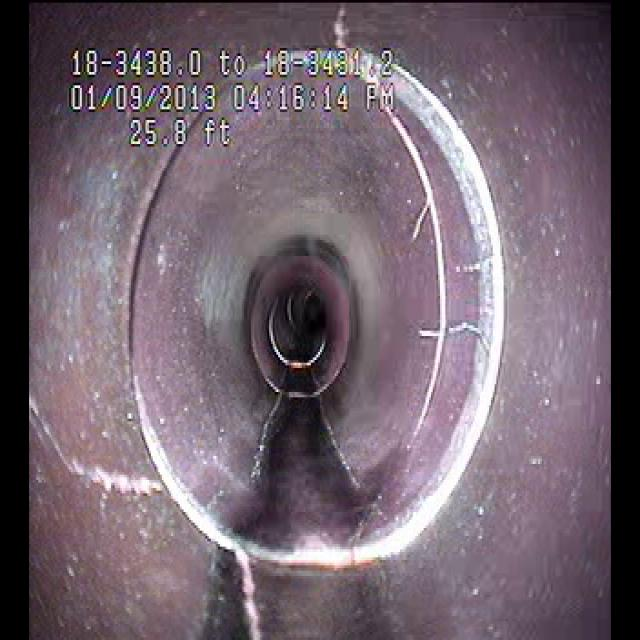Fracture: (28, 379, 162, 553)
